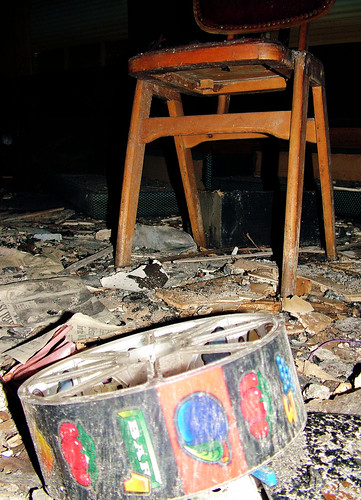chair: (120, 1, 349, 278)
trash: (4, 212, 361, 500)
